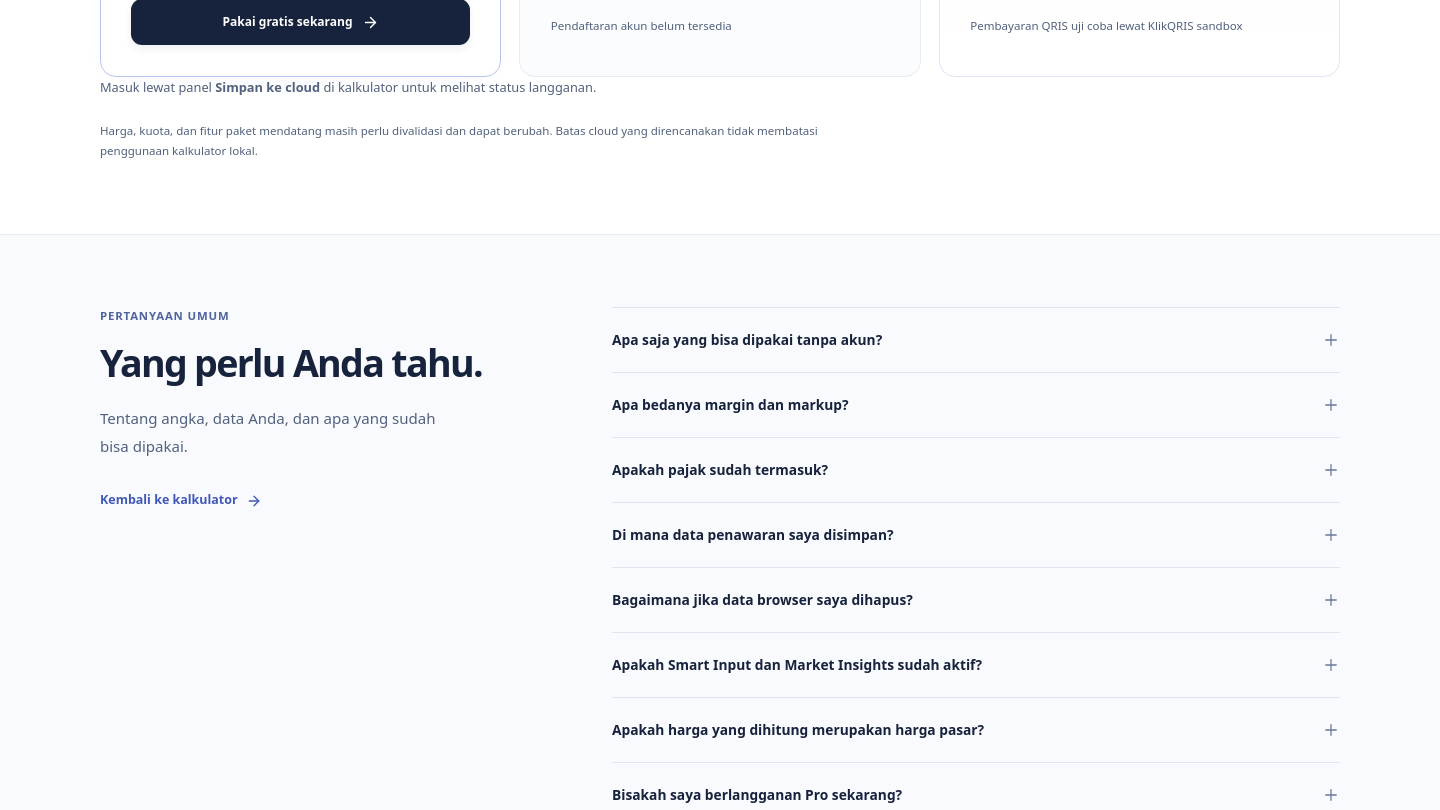
MarketingSections › exposes plain-language margin, tax and privacy answers in native disclosures
The image size is (1440, 810).
(page scrolled)
Click the heading "Apa bedanya margin dan markup?".
click(730, 404)  # box [612,395,1340,414]
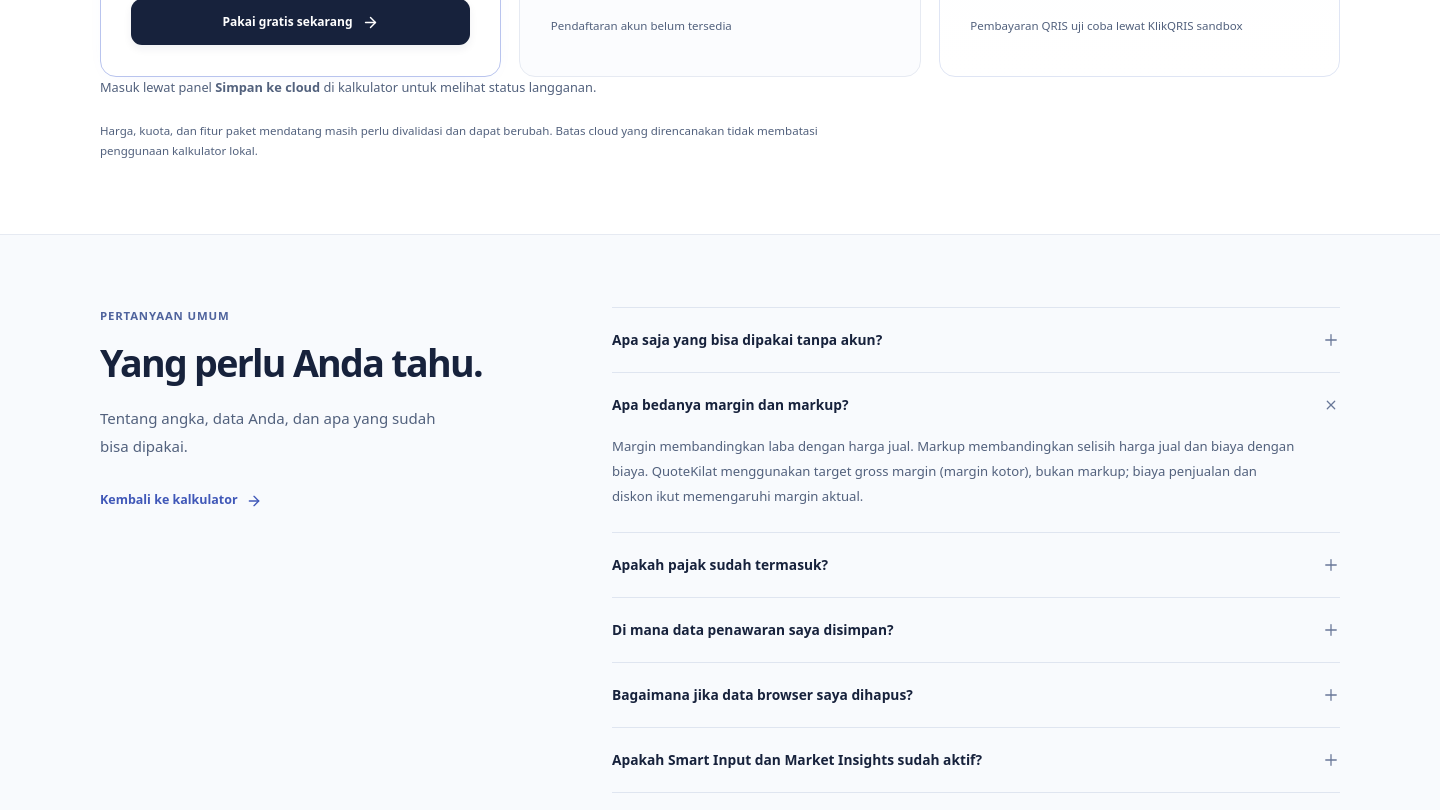
Expected: the text "Apakah pajak sudah termasuk?" is shown, [612,554,828,576]
Now the text "Apa bedanya margin dan markup?" shows "harga jual", box [612,437,1294,505]
